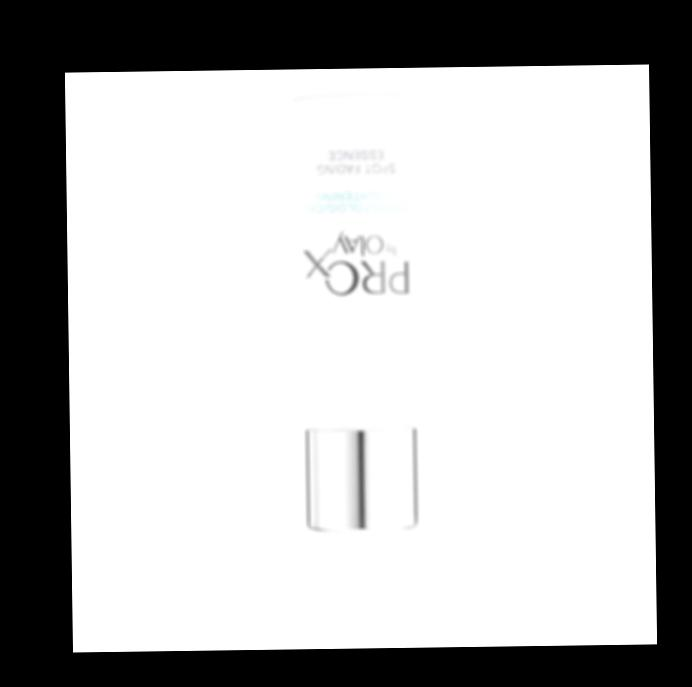cosmetic: (278, 106, 434, 618)
